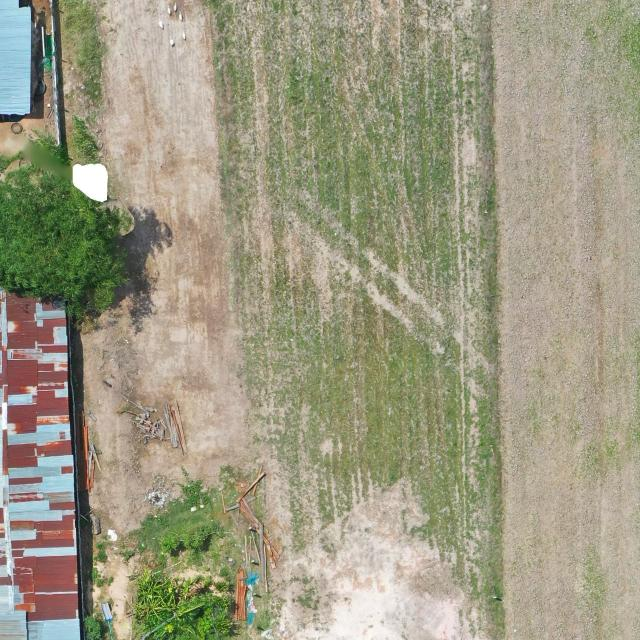Tree: (0, 128, 134, 334)
